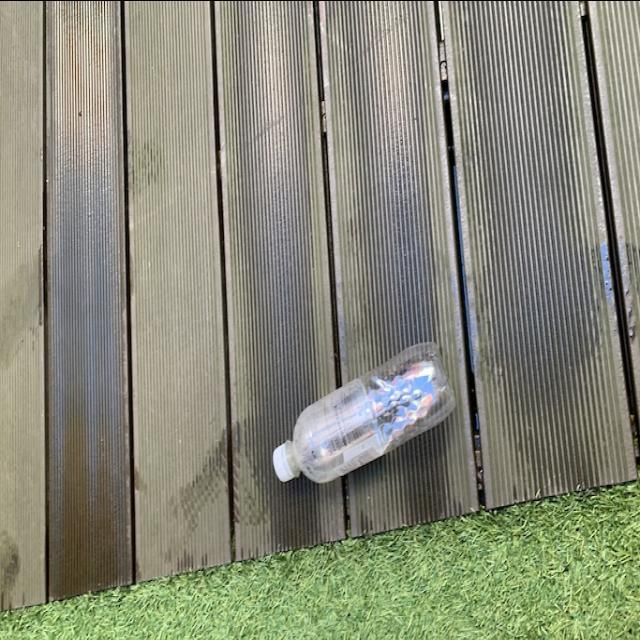PET: (272, 338, 459, 484)
